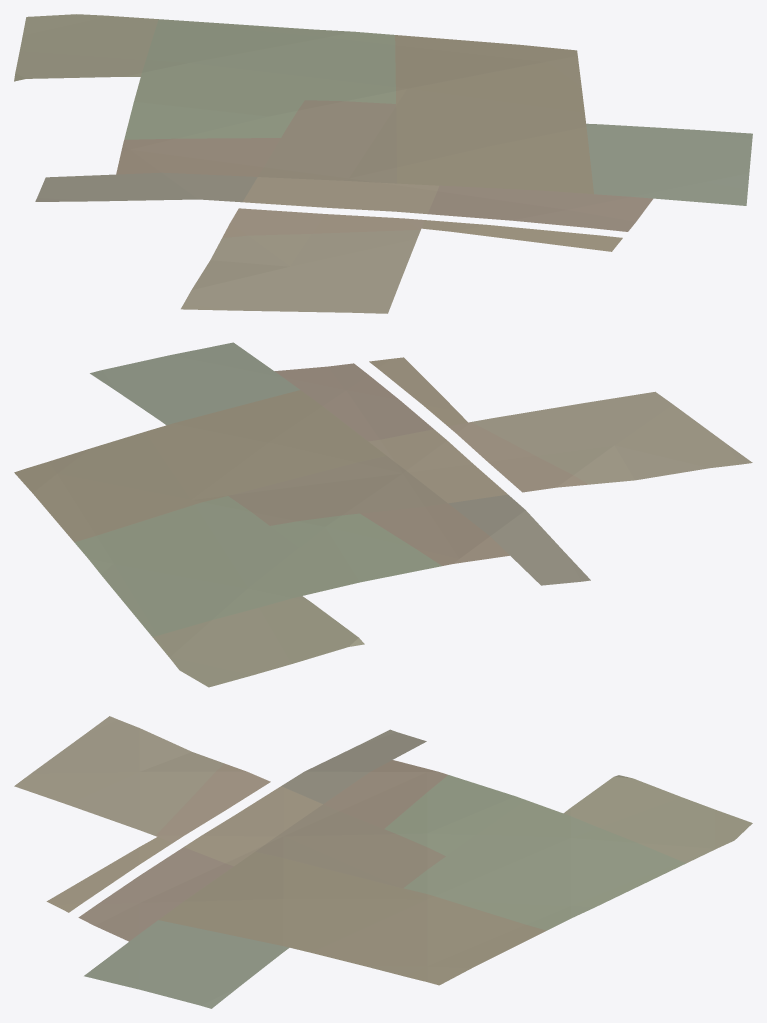
The model's file is farm_11_0_soil.glb.
3 views of the same model, one above another, from view 1: azimuth 30°, elevation 25°; view 2: azimuth 150°, elevation 25°; view 3: azimuth 270°, elevation 25° (orthographic). The views are drawn at different scales.
Visible parts, largest first — view 1: geometry_0; view 2: geometry_0; view 3: geometry_0.
Boxes of the visible parts, x1,y1,x2,y2 form: geometry_0: (14, 14, 752, 313); geometry_0: (14, 342, 752, 687); geometry_0: (14, 716, 752, 1008).
Bounding box in the file's own units: 363 × 11.43 × 411.
